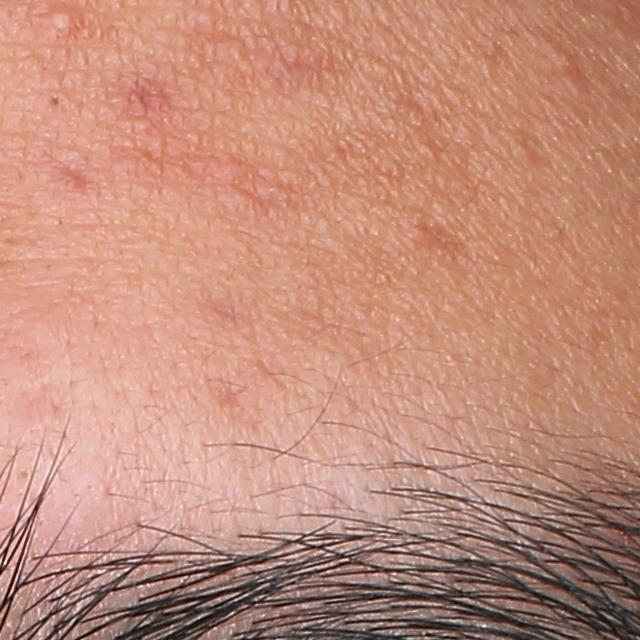comedo: (545, 44, 581, 83)
